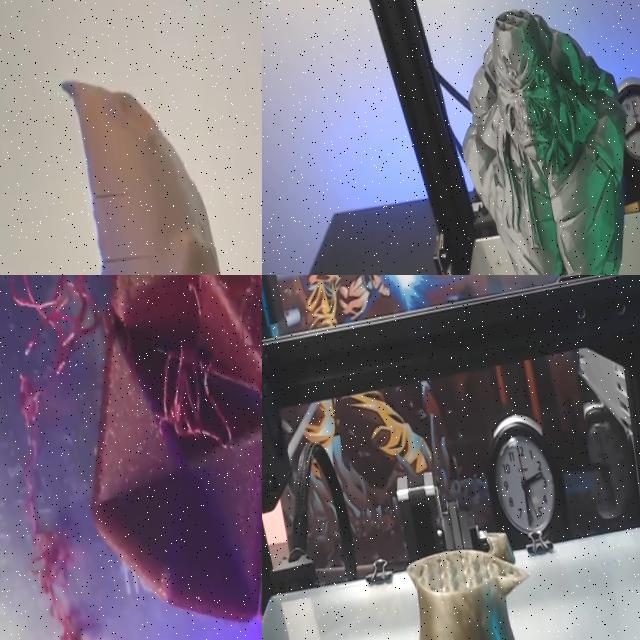spaghetti: (0, 275, 172, 640), (179, 275, 262, 458), (148, 336, 229, 454)
